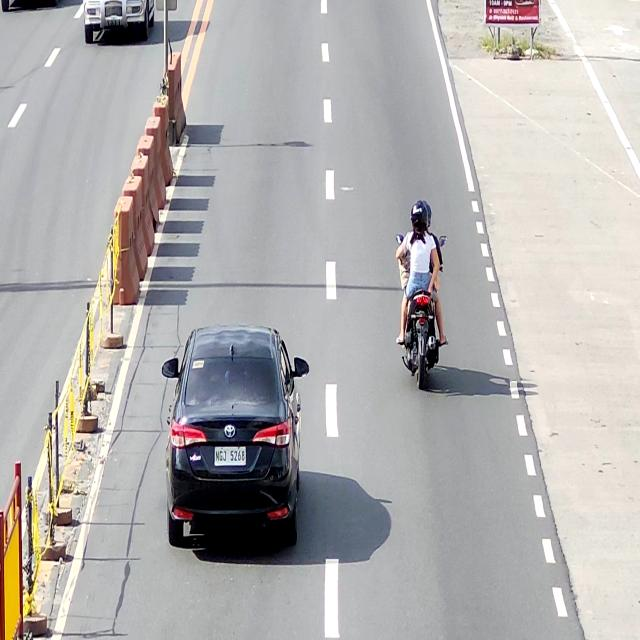Car: (161, 323, 311, 546), (84, 0, 155, 44)
License-Plate: (214, 446, 246, 467)
Motorcycle: (395, 233, 448, 390)
